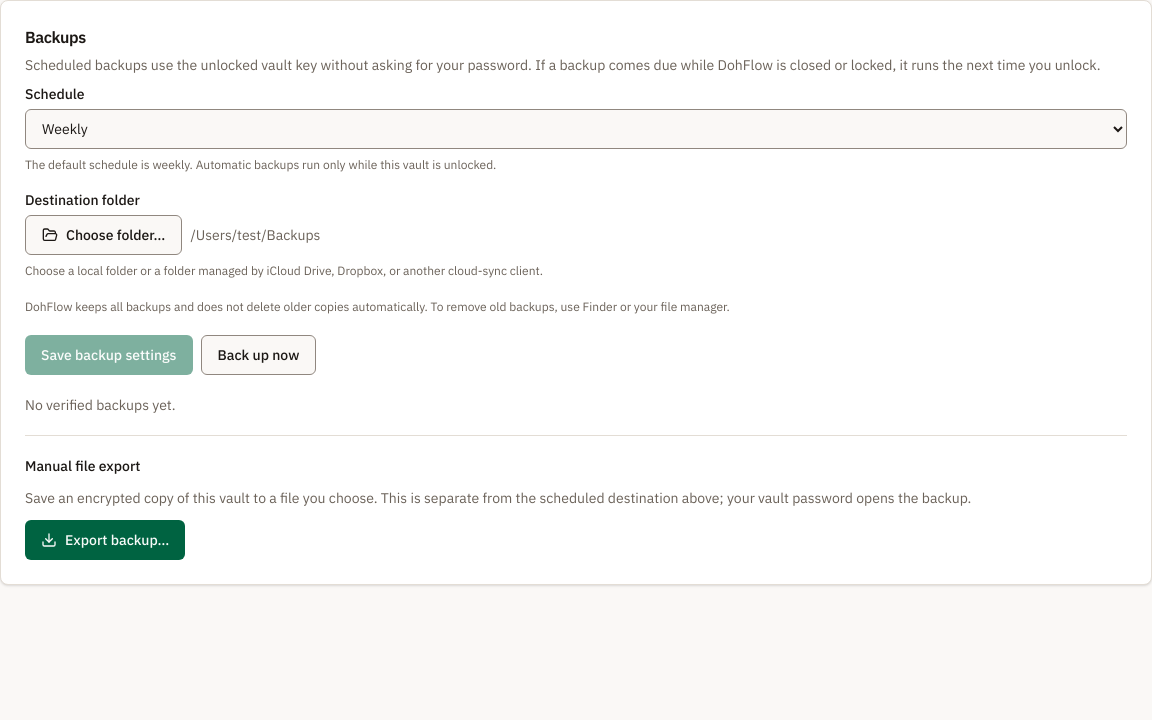
BackupScheduleCard › runs a verified backup now in the saved folder
The width and height of the screenshot is (1152, 720).
Click the button "Back up now" at {"x": 258, "y": 355}, box [200,335,316,375]
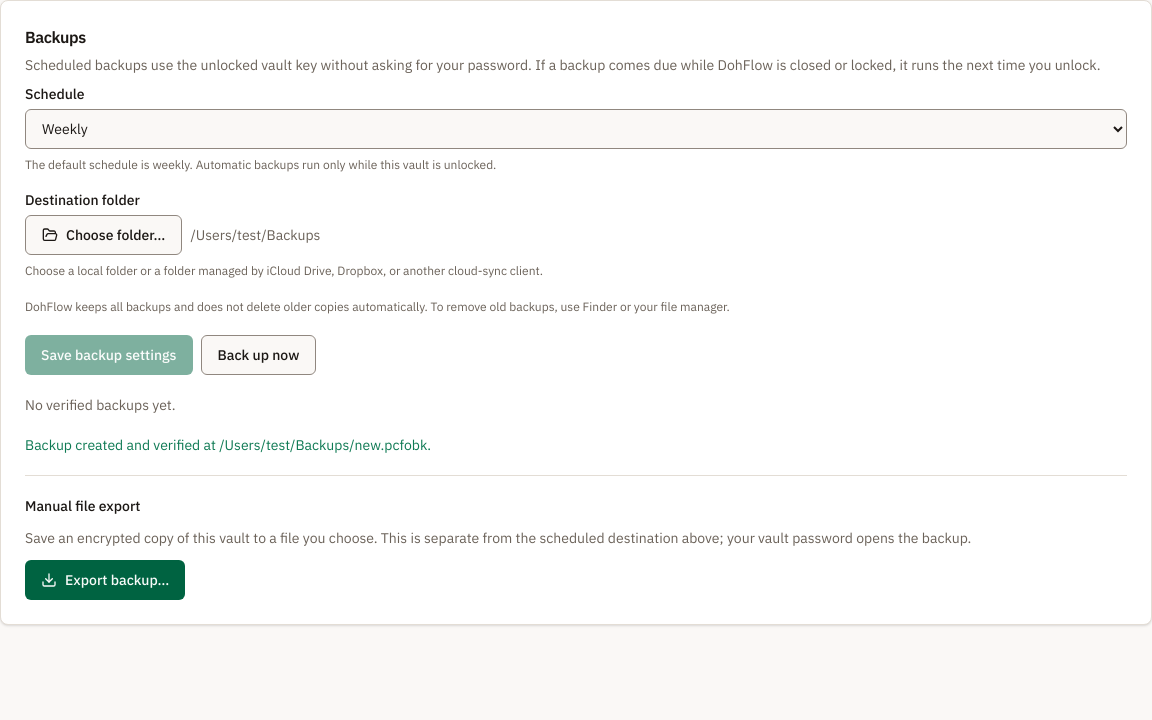
Check: the text "Backup created and verified at /Users/test/Backups/new.pcfobk." is shown, box [25,436,431,454]
